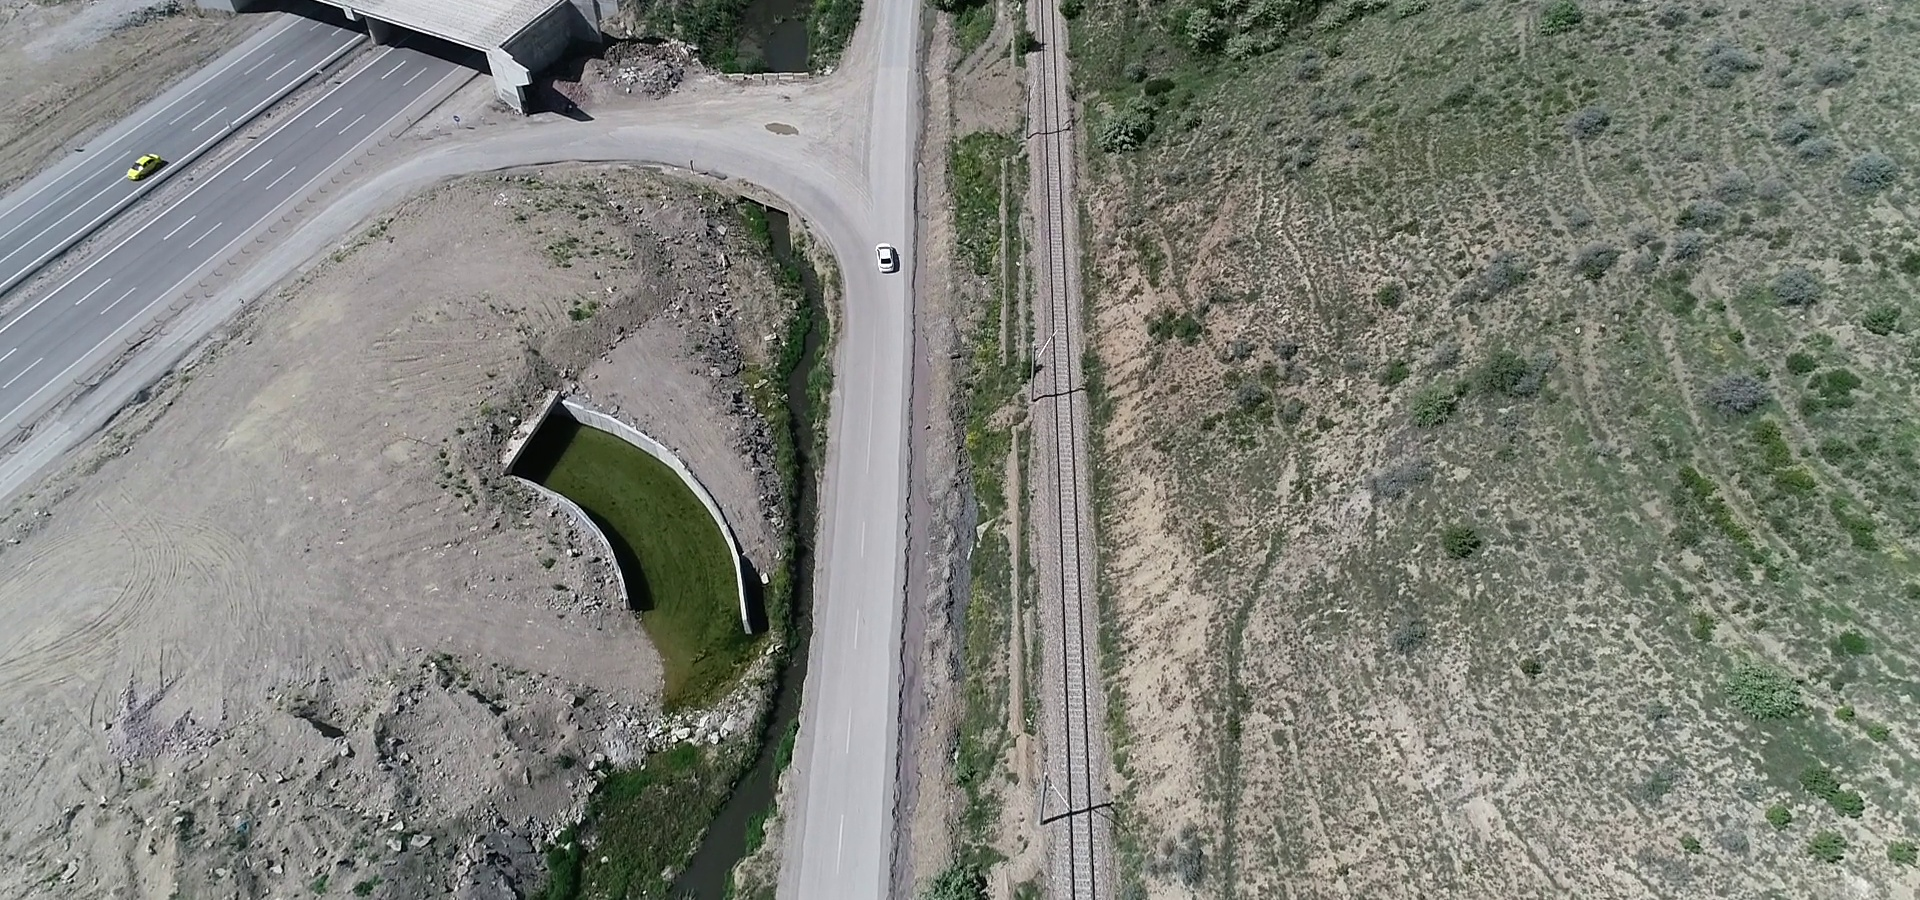arac: (871, 235, 900, 280), (126, 149, 164, 181)
